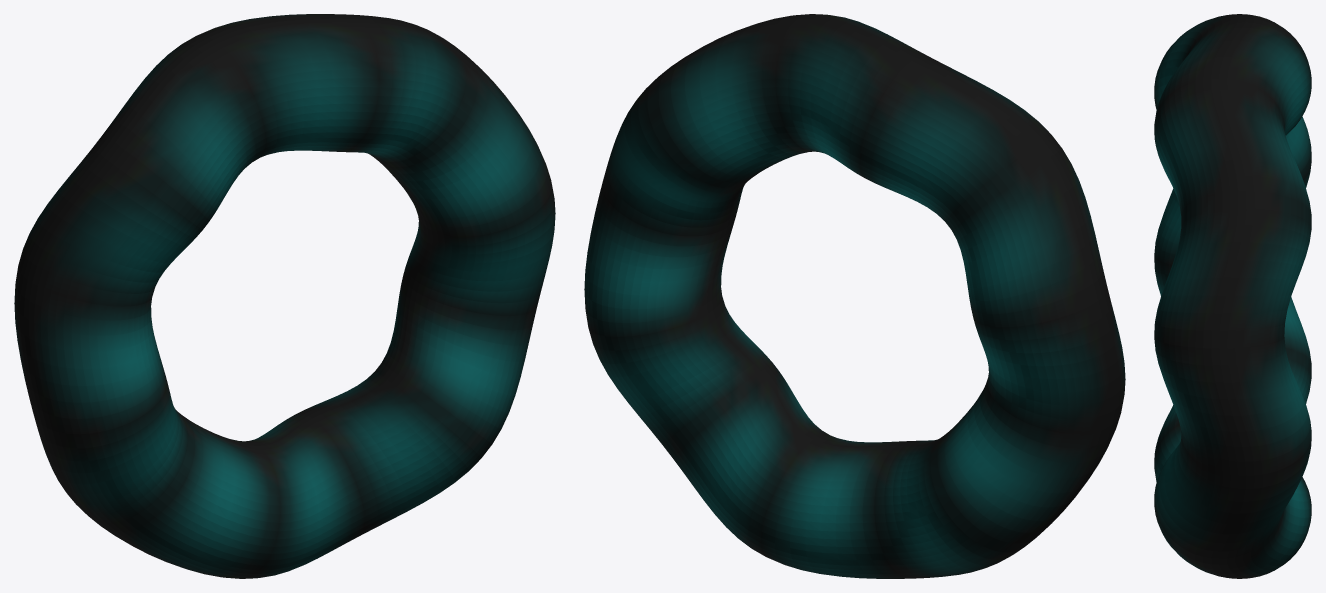
File: step_3.glb
The picture shows the model from 3 angles, left to right: view 1: azimuth 30°, elevation 25°; view 2: azimuth 150°, elevation 25°; view 3: azimuth 270°, elevation 25°; orthographic projection. The views are drawn at different scales.
Parts seen in each view (by area): view 1: world; view 2: world; view 3: world.
Part boxes in pixels (x1,y1,x2,y2): world: [14, 14, 555, 578]; world: [584, 14, 1125, 578]; world: [1154, 14, 1311, 578].
Size of the model in its own units: 26 by 26 by 7.25.
